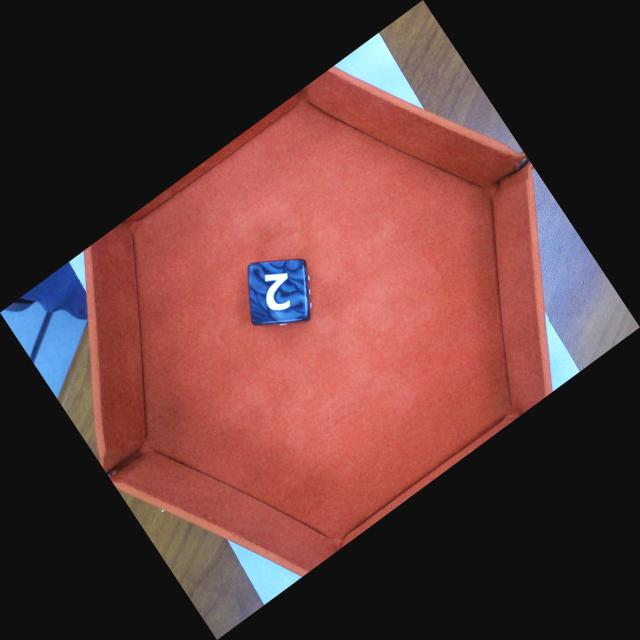dice: (252, 259, 309, 325)
